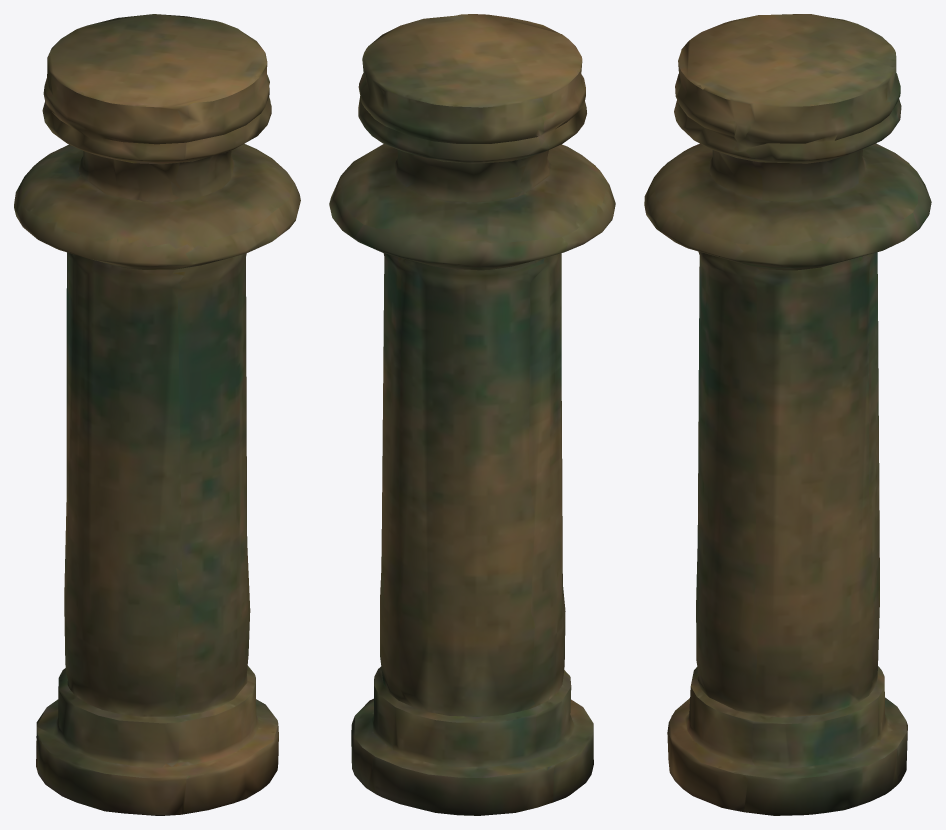
Rendered from ancient-bronze-bollard-v001.glb.
3 views of the same model, side by side, from view 1: azimuth 30°, elevation 25°; view 2: azimuth 150°, elevation 25°; view 3: azimuth 270°, elevation 25° (orthographic).
Parts seen in each view (by area): view 1: ancient-bronze-bollard; view 2: ancient-bronze-bollard; view 3: ancient-bronze-bollard.
Boxes of the visible parts, x1,y1,x2,y2 form: ancient-bronze-bollard: (14, 14, 300, 815); ancient-bronze-bollard: (329, 14, 615, 815); ancient-bronze-bollard: (644, 14, 931, 815).
Bounding box in the file's own units: 0.3357 × 0.9091 × 0.3345.
1 material, 1 textured.
